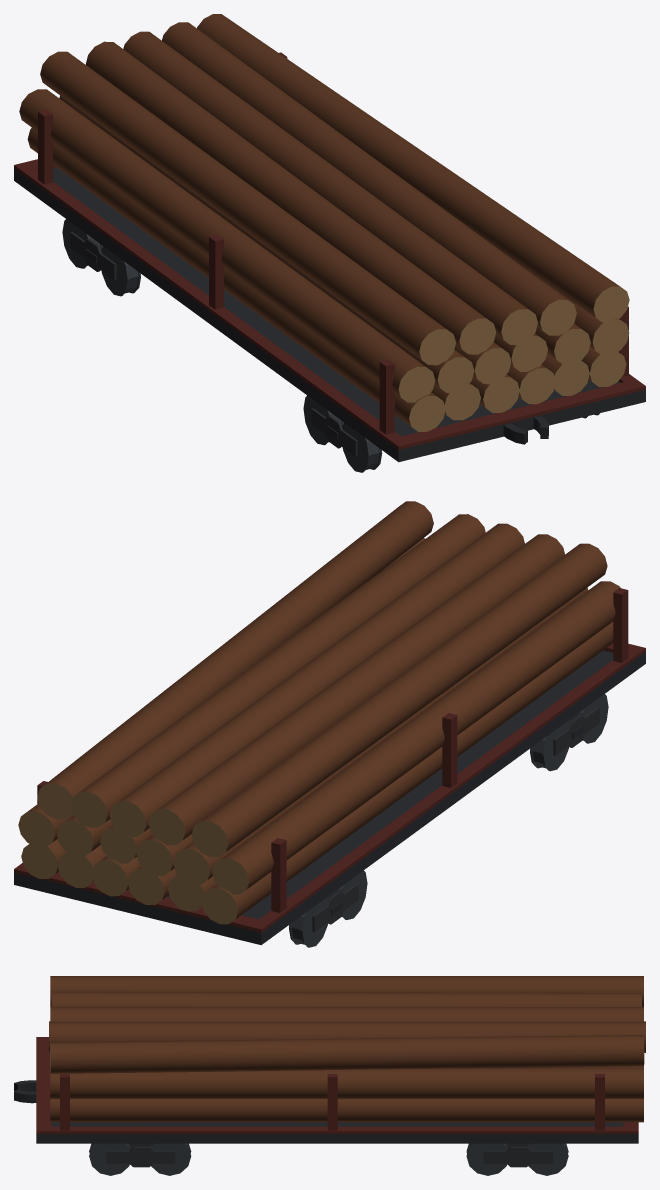
The model's file is Wagon_4.fbx.
The picture shows the model from 3 angles, top to bottom: view 1: azimuth 30°, elevation 25°; view 2: azimuth 150°, elevation 25°; view 3: azimuth 270°, elevation 25°; orthographic projection. The views are drawn at different scales.
Visible parts, largest first — view 1: Wagon_4; view 2: Wagon_4; view 3: Wagon_4.
Boxes of the visible parts, left/top/right/bottom form: Wagon_4: left=14, top=14, right=645, bottom=472; Wagon_4: left=14, top=501, right=645, bottom=947; Wagon_4: left=14, top=976, right=645, bottom=1175.
Size of the model in its own units: 231 by 142 by 652.
